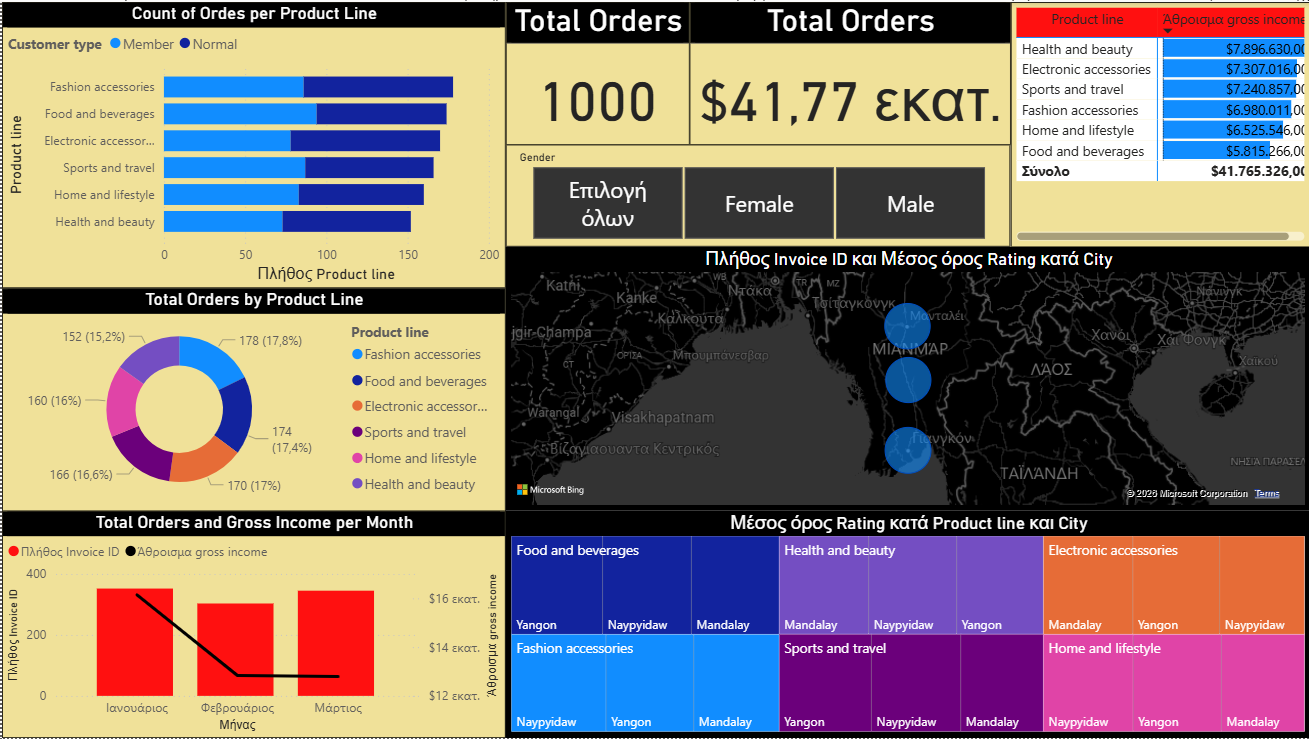

The dashboard page shown, as its layout file describes it:
{"tool":"powerbi","page":{"name":"Σελίδα 1","canvas":[1280,720],"ordinal":0},"visuals":[{"type":"barChart","title":"Count of Ordes per Product Line","fields":{"Series":["supermarket sales.Customer type"],"Category":["supermarket sales.Product line"],"Y":["CountNonNull(supermarket sales.Product line)"]},"box":[0,0,492.6,279.9],"z":0},{"type":"card","title":"Total Orders","fields":{"Values":["Count(supermarket sales.Invoice ID)"]},"box":[492.6,0,179.8,140],"z":1000},{"type":"card","title":"Total Orders","fields":{"Values":["Sum(supermarket sales.gross income)"]},"box":[672.4,0,314.2,140],"z":2000},{"type":"slicer","fields":{"Values":["supermarket sales.Gender"]},"box":[492.6,140,494,100.2],"z":3000},{"type":"donutChart","title":"Total Orders by Product Line","fields":{"Y":["CountNonNull(supermarket sales.Invoice ID)"],"Category":["supermarket sales.Product line"]},"box":[0,279.9,492.6,218.2],"z":4000},{"type":"lineClusteredColumnComboChart","title":"Total Orders and Gross Income per Month","fields":{"Category":["supermarket sales.Date.Παραλλαγή.Ιεραρχία ημερομηνιών.Μήνας","supermarket sales.Date.Παραλλαγή.Ιεραρχία ημερομηνιών.Ημέρα"],"Y":["CountNonNull(supermarket sales.Invoice ID)"],"Y2":["Sum(supermarket sales.gross income)"]},"box":[0,498.1,492.6,222.3],"z":5000},{"type":"pivotTable","fields":{"Values":["Sum(supermarket sales.gross income)"],"Rows":["supermarket sales.Product line"]},"box":[986.6,0,293.7,240.1],"z":6000},{"type":"treemap","fields":{"Group":["supermarket sales.Product line"],"Values":["Avg(supermarket sales.Rating)"],"Details":["supermarket sales.City"]},"box":[492.6,498.1,787.7,222.3],"z":7000},{"type":"map","fields":{"Category":["supermarket sales.City"],"Size":["CountNonNull(supermarket sales.Invoice ID)"]},"box":[492.6,240.1,787.7,258],"z":8000}]}

Visuals, with their boxes in screenshot pixels (x1, y1, x2, y2), scaled from the page's 1280x720 canvas onto the 1309x739 screenshot:
"Count of Ordes per Product Line" barChart: rect(0, 0, 504, 287)
"Total Orders" card: rect(504, 0, 688, 144)
"Total Orders" card: rect(688, 0, 1009, 144)
slicer - supermarket sales.Gender: rect(504, 144, 1009, 247)
"Total Orders by Product Line" donutChart: rect(0, 287, 504, 511)
"Total Orders and Gross Income per Month" lineClusteredColumnComboChart: rect(0, 511, 504, 738)
pivotTable - Sum(supermarket sales.gross income) x supermarket sales.Product line: rect(1009, 0, 1308, 246)
treemap - supermarket sales.Product line x Avg(supermarket sales.Rating): rect(504, 511, 1308, 738)
map - supermarket sales.City x CountNonNull(supermarket sales.Invoice ID): rect(504, 246, 1308, 511)
